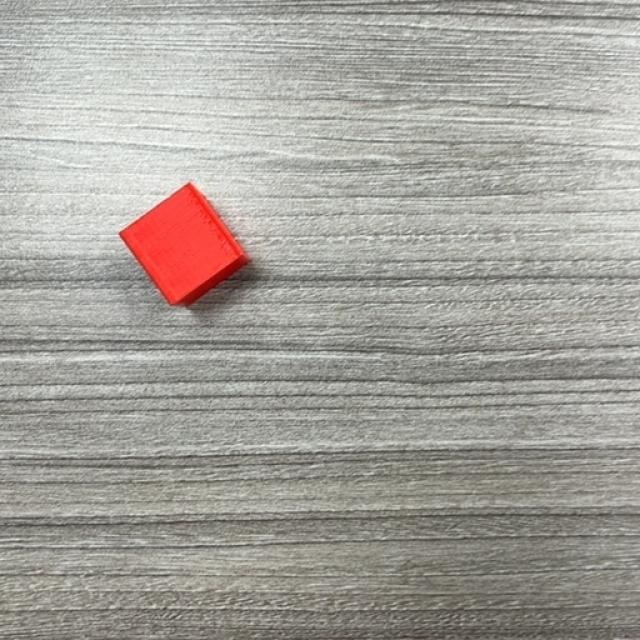Rojo: (118, 182, 250, 309)
